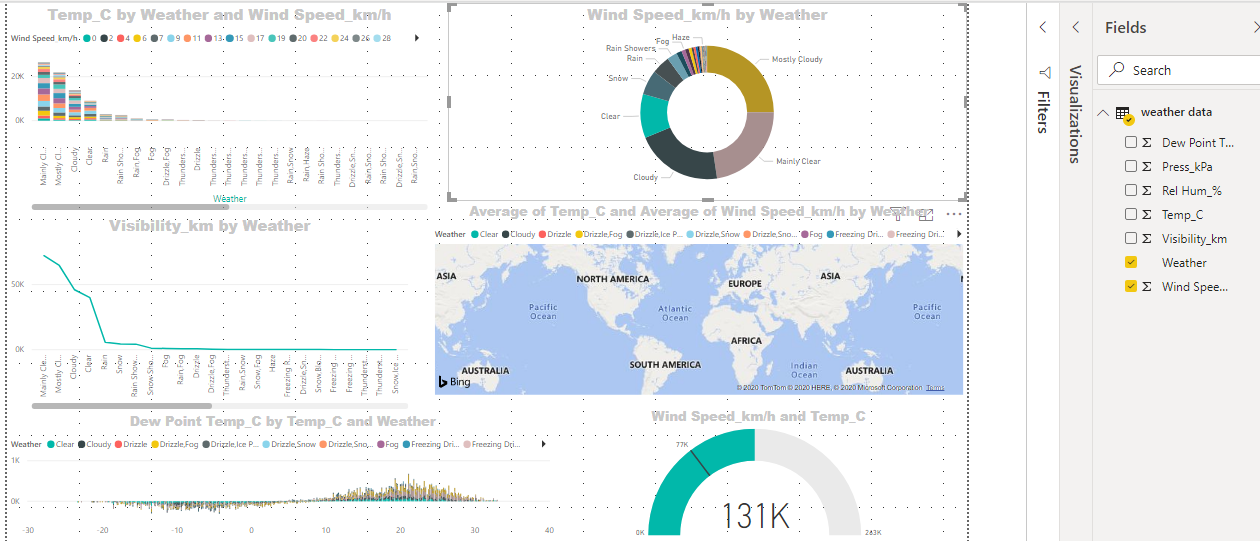

What the dashboard file says about the page in this screenshot:
{"tool":"powerbi","page":{"name":"Page 1","canvas":[1280,720],"ordinal":0},"visuals":[{"type":"columnChart","fields":{"Category":["weather data.Weather"],"Y":["Sum(weather data.Temp_C)"],"Series":["weather data.Wind Speed_km/h"]},"box":[0,0,566.3,281],"z":0},{"type":"donutChart","fields":{"Y":["Sum(weather data.Wind Speed_km/h)"],"Category":["weather data.Weather"]},"box":[588.5,0,691.5,264.3],"z":1000},{"type":"lineChart","fields":{"Category":["weather data.Weather"],"Y":["Sum(weather data.Visibility_km)"]},"box":[0,280.8,540.3,264.8],"z":2000},{"type":"gauge","fields":{"Y":["Sum(weather data.Wind Speed_km/h)"],"TargetValue":["Sum(weather data.Temp_C)"]},"box":[734.6,539,535,181],"z":3000},{"type":"filledMap","fields":{"X":["Avg(weather data.Wind Speed_km/h)"],"Y":["Avg(weather data.Temp_C)"],"Series":["weather data.Weather"]},"box":[565.6,264.8,714.7,262.2],"z":4000},{"type":"columnChart","fields":{"Series":["weather data.Weather"],"Category":["weather data.Temp_C"],"Y":["Sum(weather data.Dew Point Temp_C)"]},"box":[0,545,735,174.8],"z":5000}]}

Visuals, with their boxes on the page's 1280x720 design canvas (x1, y1, x2, y2). These are canvas units, not pixel positions in the 1260x541 screenshot, which may show the page scaled, cropped or inside an application window:
columnChart - weather data.Weather x Sum(weather data.Temp_C): 0 0 566 281
donutChart - Sum(weather data.Wind Speed_km/h) x weather data.Weather: 588 0 1280 264
lineChart - weather data.Weather x Sum(weather data.Visibility_km): 0 281 540 546
gauge - Sum(weather data.Wind Speed_km/h) x Sum(weather data.Temp_C): 735 539 1270 720
filledMap - Avg(weather data.Wind Speed_km/h) x Avg(weather data.Temp_C): 566 265 1280 527
columnChart - weather data.Weather x weather data.Temp_C: 0 545 735 720
